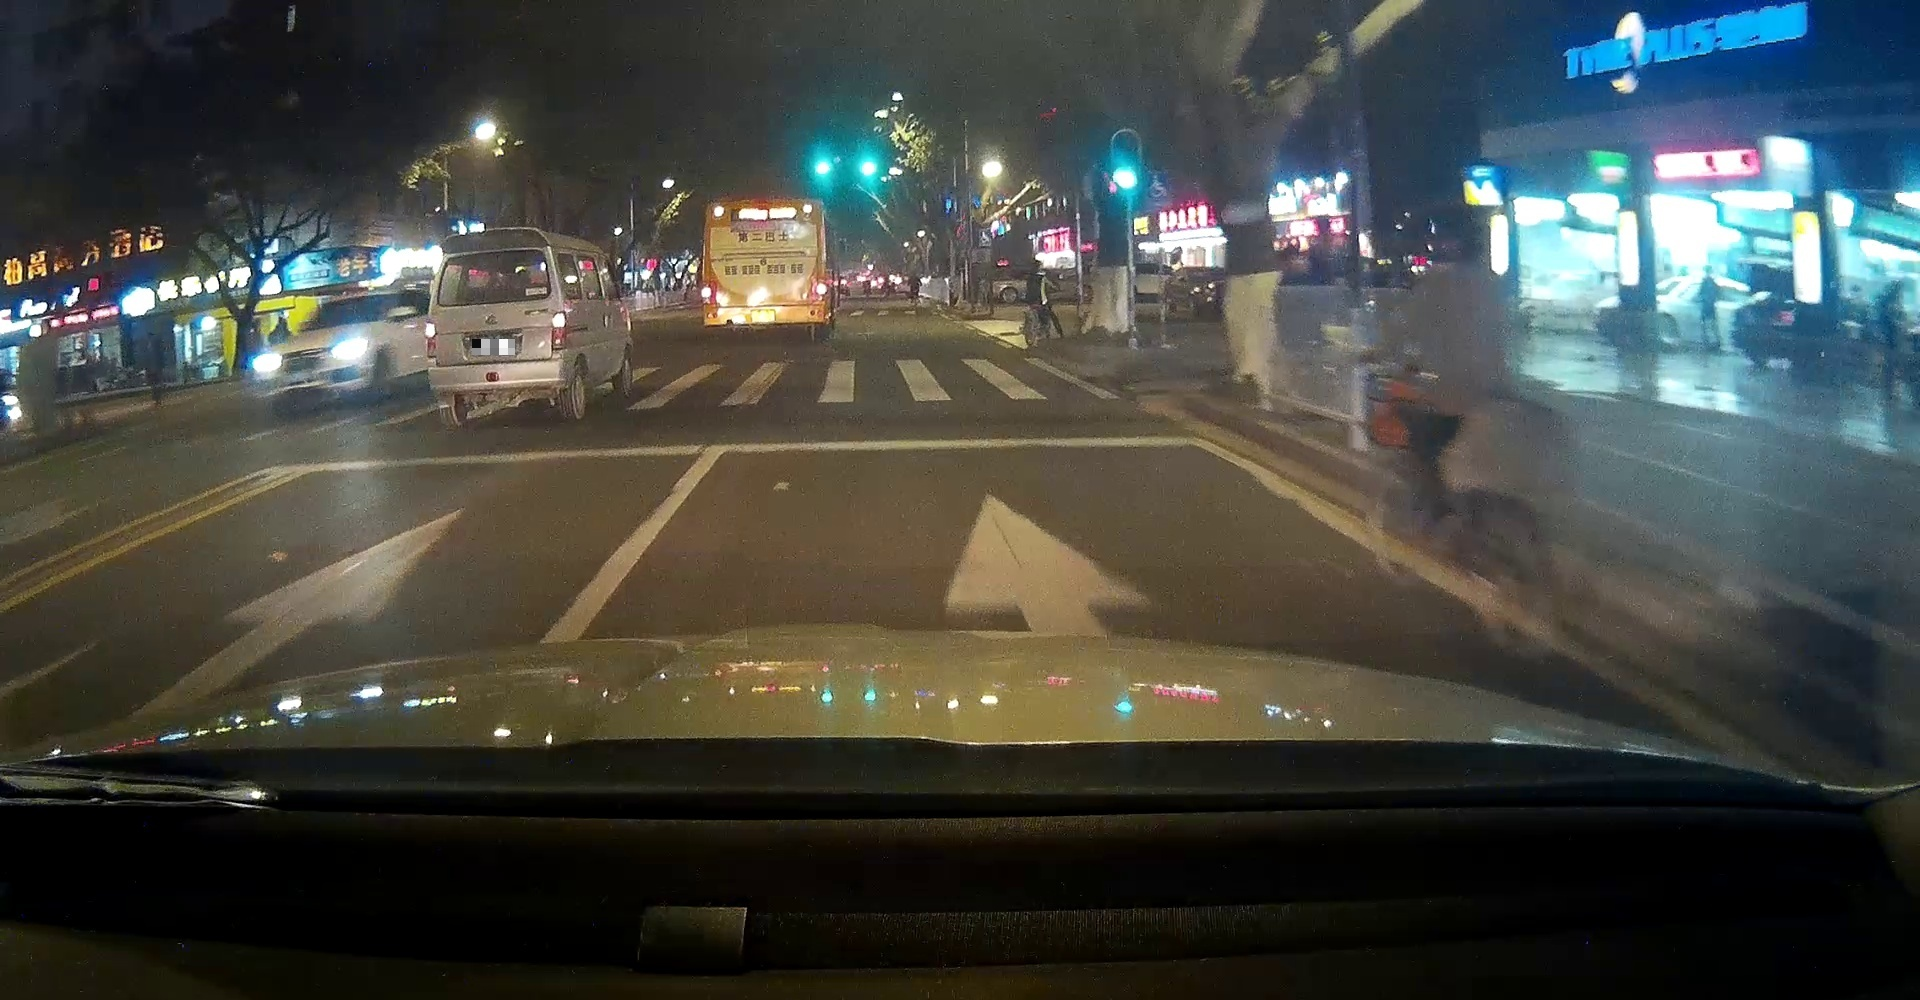L_light: (424, 322, 437, 358), (702, 282, 712, 305)
R_light: (551, 311, 566, 352), (817, 279, 827, 301)
T_light: (481, 253, 502, 256), (758, 202, 775, 206)
night-no: (424, 227, 568, 426), (702, 195, 828, 338)
plate_1: (472, 339, 516, 355)
